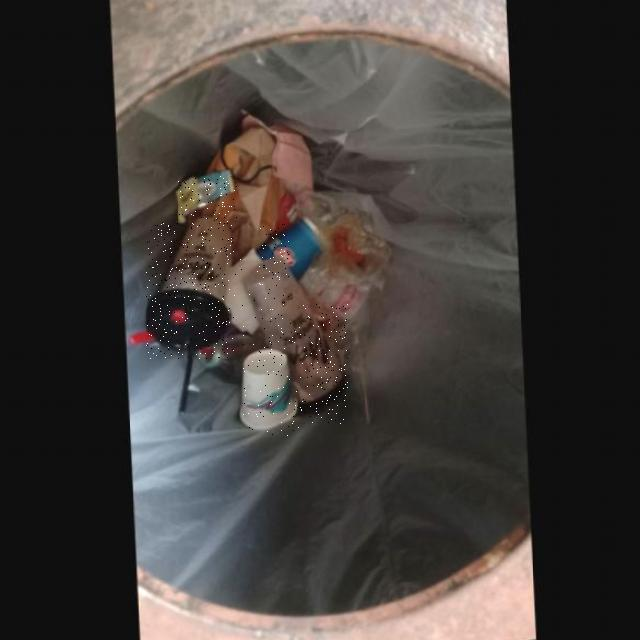paper: (241, 354, 300, 436), (260, 224, 327, 286), (230, 254, 265, 340)
plastic: (244, 265, 348, 423), (147, 221, 234, 358), (289, 195, 393, 303)
wrapper: (179, 176, 237, 226)
